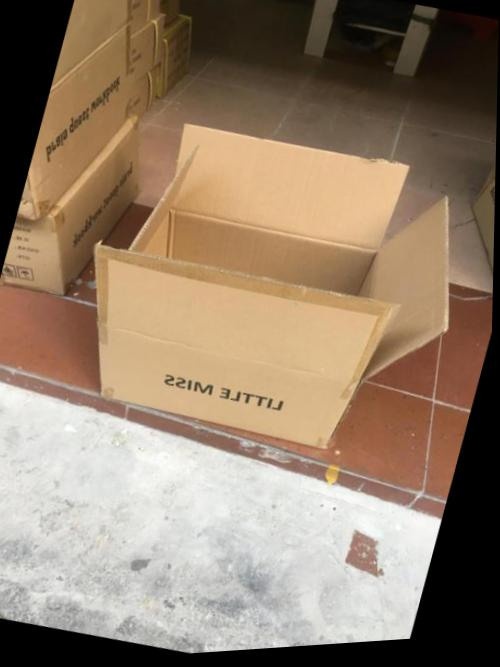cardboard: (84, 122, 491, 504), (2, 0, 190, 293)
